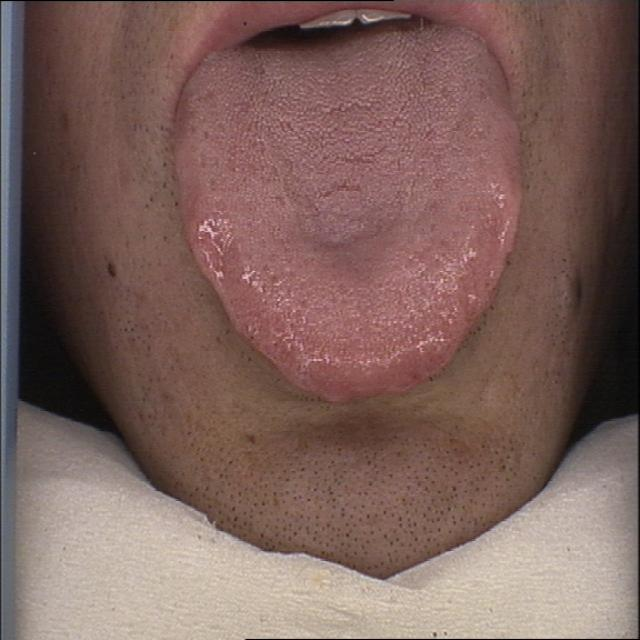tongue: (166, 41, 536, 400)
